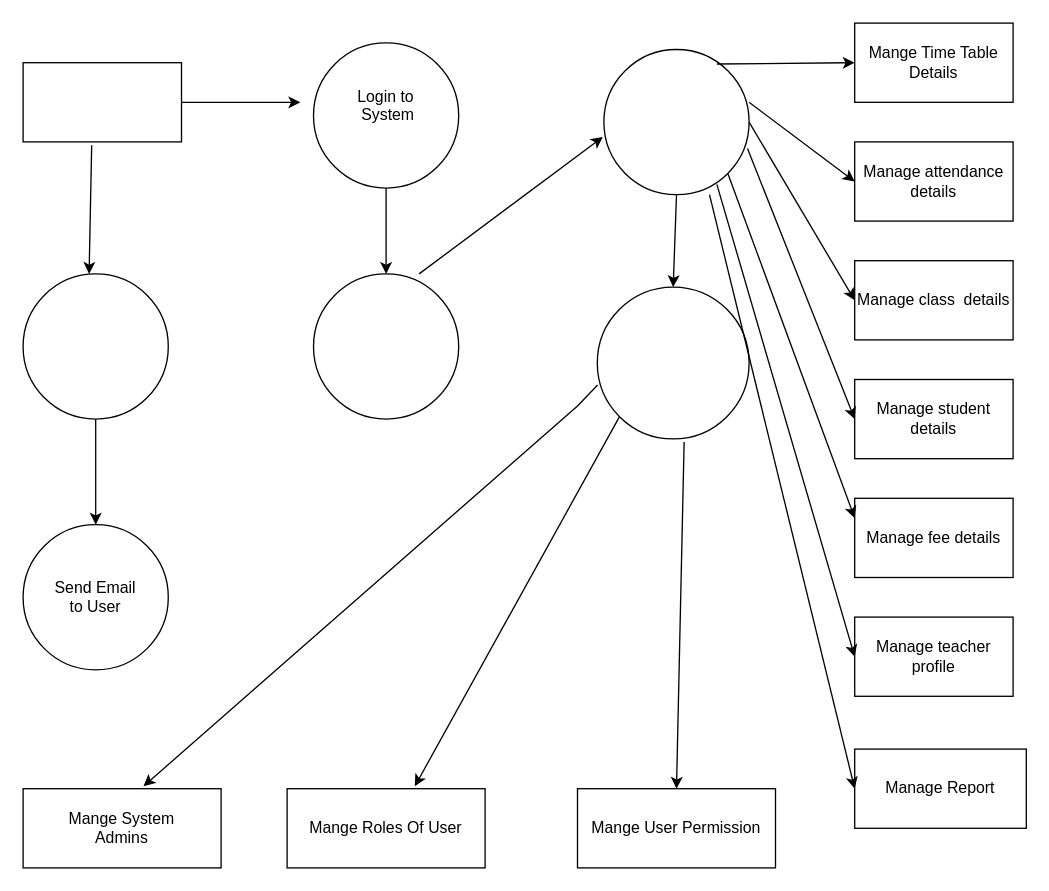
Some shapes in this 1049 by 891 pixel diagram are drawn without their labels. The shapes that lost their labels are listed below. From the top down, each one's centre as x and y in pixels, then its label:
At point (102, 101): "Admin".
At point (676, 121): "Check Roles Of Access".
At point (95, 346): "Forget Password".
At point (385, 346): "Check Credentials".
At point (672, 362): "Manage Modules".
